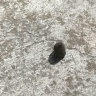Dog: (53, 42, 65, 60)
